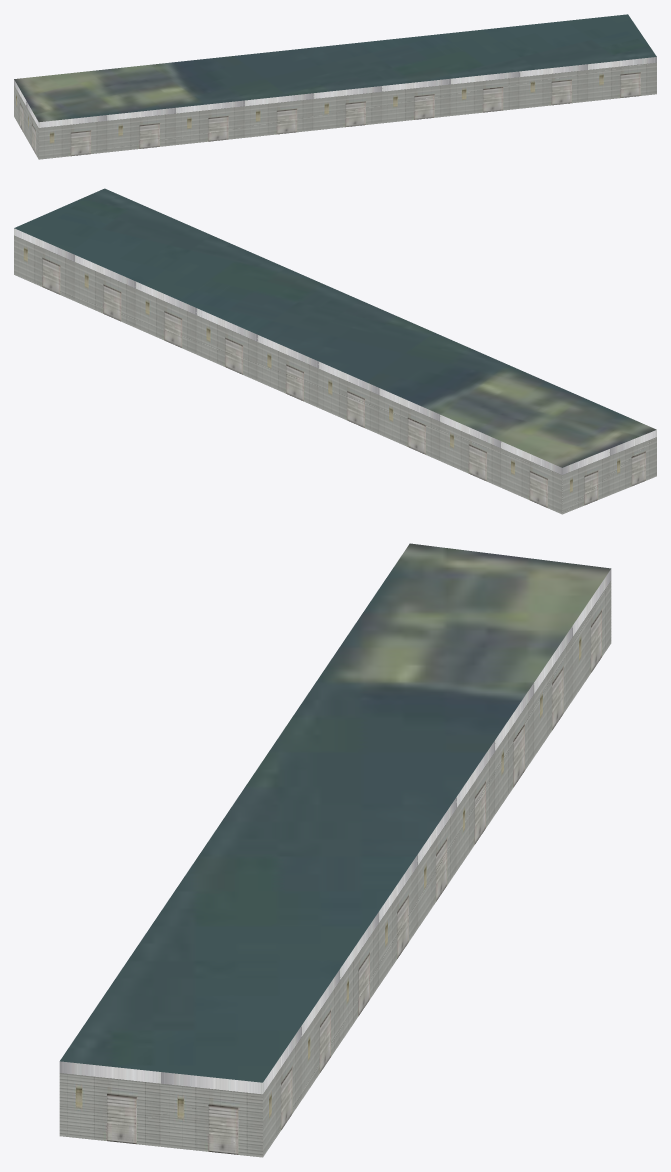
The picture shows the model from 3 angles, top to bottom: view 1: azimuth 30°, elevation 25°; view 2: azimuth 150°, elevation 25°; view 3: azimuth 270°, elevation 25°; orthographic projection. The views are drawn at different scales.
Visible parts, largest first — view 1: SketchUp (×3); view 2: SketchUp (×3); view 3: SketchUp (×3).
Boxes of the visible parts, x1,y1,x2,y2 form: SketchUp (×3): (14, 14, 656, 159); SketchUp (×3): (14, 188, 656, 514); SketchUp (×3): (59, 543, 611, 1157).
Bounding box in the file's own units: 2382 × 1030 × 154.
Materials: 3 (3 with a texture image).
